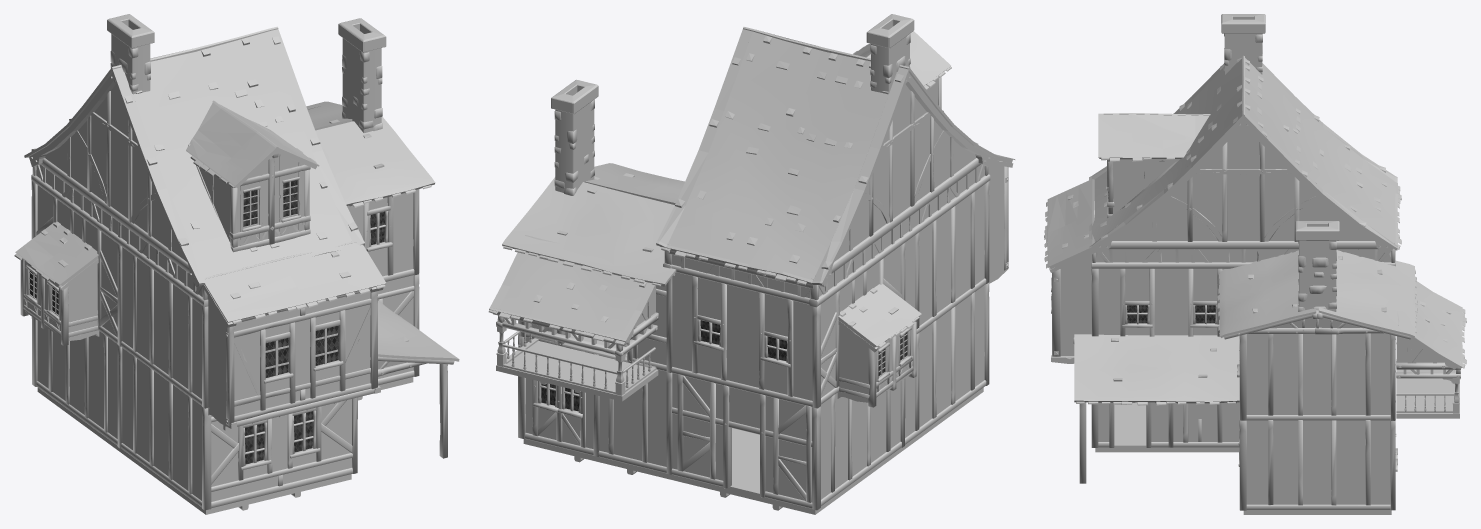
File: House_3.fbx
The picture shows the model from 3 angles, left to right: view 1: azimuth 30°, elevation 25°; view 2: azimuth 150°, elevation 25°; view 3: azimuth 270°, elevation 25°; orthographic projection. The views are drawn at different scales.
Parts seen in each view (by area): view 1: StaticMeshComponent0, StaticMeshComponent046, StaticMeshComponent05, StaticMeshComponent09, StaticMeshComponent047, StaticMeshComponent042, StaticMeshComponent039, StaticMeshComponent021, StaticMeshComponent019, StaticMeshComponent032, StaticMeshComponent06, StaticMeshComponent036 (+6 smaller); view 2: StaticMeshComponent03, StaticMeshComponent05, StaticMeshComponent01, StaticMeshComponent08, StaticMeshComponent016, StaticMeshComponent02, StaticMeshComponent09, StaticMeshComponent042, StaticMeshComponent039, StaticMeshComponent021, StaticMeshComponent014, StaticMeshComponent013 (+9 smaller); view 3: StaticMeshComponent04, StaticMeshComponent020, StaticMeshComponent010, StaticMeshComponent0, StaticMeshComponent036, StaticMeshComponent03, StaticMeshComponent034, StaticMeshComponent046, StaticMeshComponent01, StaticMeshComponent02, StaticMeshComponent019, StaticMeshComponent06 (+9 smaller).
Boxes of the visible parts, bbox=[...] form: StaticMeshComponent0: bbox=[132, 29, 352, 276]; StaticMeshComponent046: bbox=[202, 241, 386, 430]; StaticMeshComponent05: bbox=[24, 65, 208, 306]; StaticMeshComponent09: bbox=[14, 185, 122, 346]; StaticMeshComponent047: bbox=[211, 397, 357, 508]; StaticMeshComponent042: bbox=[121, 348, 211, 510]; StaticMeshComponent039: bbox=[121, 247, 208, 408]; StaticMeshComponent021: bbox=[36, 321, 122, 448]; StaticMeshComponent019: bbox=[315, 116, 435, 207]; StaticMeshComponent032: bbox=[347, 189, 419, 281]; StaticMeshComponent06: bbox=[338, 18, 386, 132]; StaticMeshComponent036: bbox=[378, 301, 459, 376]; StaticMeshComponent03: bbox=[661, 29, 888, 304]; StaticMeshComponent05: bbox=[809, 65, 996, 307]; StaticMeshComponent01: bbox=[488, 235, 658, 401]; StaticMeshComponent08: bbox=[671, 272, 820, 408]; StaticMeshComponent016: bbox=[671, 373, 820, 510]; StaticMeshComponent02: bbox=[502, 177, 676, 286]; StaticMeshComponent09: bbox=[821, 242, 921, 407]; StaticMeshComponent042: bbox=[905, 282, 989, 444]; StaticMeshComponent039: bbox=[905, 181, 989, 333]; StaticMeshComponent021: bbox=[821, 378, 905, 505]; StaticMeshComponent014: bbox=[598, 365, 672, 474]; StaticMeshComponent013: bbox=[525, 337, 599, 456]; StaticMeshComponent04: bbox=[1089, 110, 1397, 268]; StaticMeshComponent020: bbox=[1246, 420, 1395, 510]; StaticMeshComponent010: bbox=[1246, 333, 1395, 420]; StaticMeshComponent0: bbox=[1089, 56, 1243, 241]; StaticMeshComponent036: bbox=[1073, 334, 1239, 405]; StaticMeshComponent03: bbox=[1243, 56, 1401, 259]; StaticMeshComponent034: bbox=[1098, 268, 1223, 336]; StaticMeshComponent046: bbox=[1044, 179, 1098, 363]; StaticMeshComponent01: bbox=[1396, 281, 1466, 418]; StaticMeshComponent02: bbox=[1315, 250, 1417, 339]; StaticMeshComponent019: bbox=[1217, 250, 1320, 339]; StaticMeshComponent06: bbox=[1295, 221, 1339, 311].
Bounding box in the file's own units: 1424 × 1699 × 1712.
